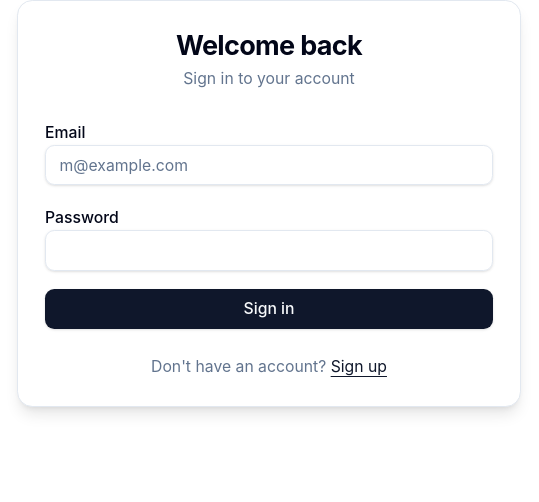
LoginForm submission › shows root server error when loginAsync rejects without field details
Type "user@example.com" into the field labelled "Email" at (269, 165), box x1=45 y1=145 x2=493 y2=186
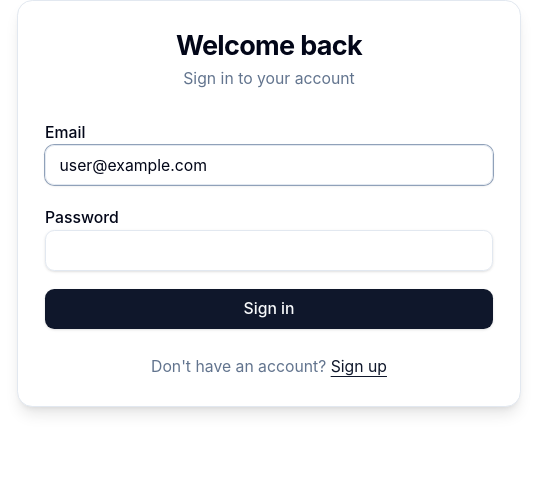
Type "ValidPass1!" into the password field labelled "Password" at (269, 251), box x1=45 y1=230 x2=493 y2=271
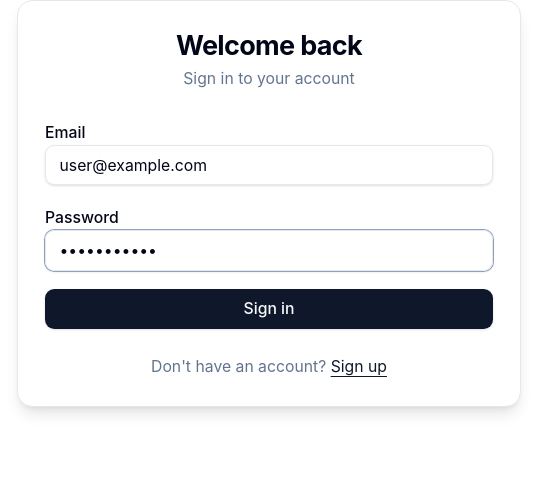
Click the button "Sign in" at (269, 309), box x1=45 y1=289 x2=493 y2=330
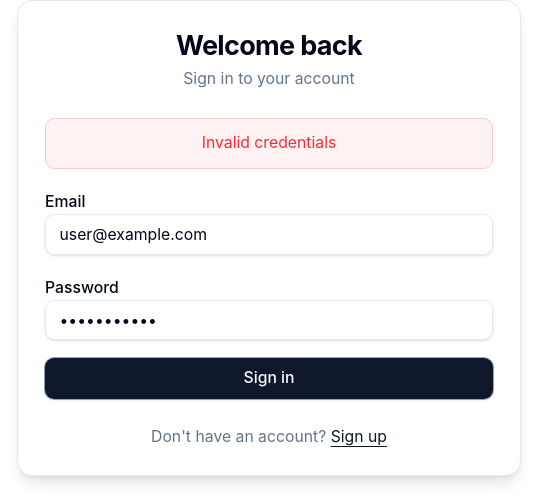
Expected: the text "Invalid credentials" is shown, x1=45 y1=118 x2=493 y2=170
